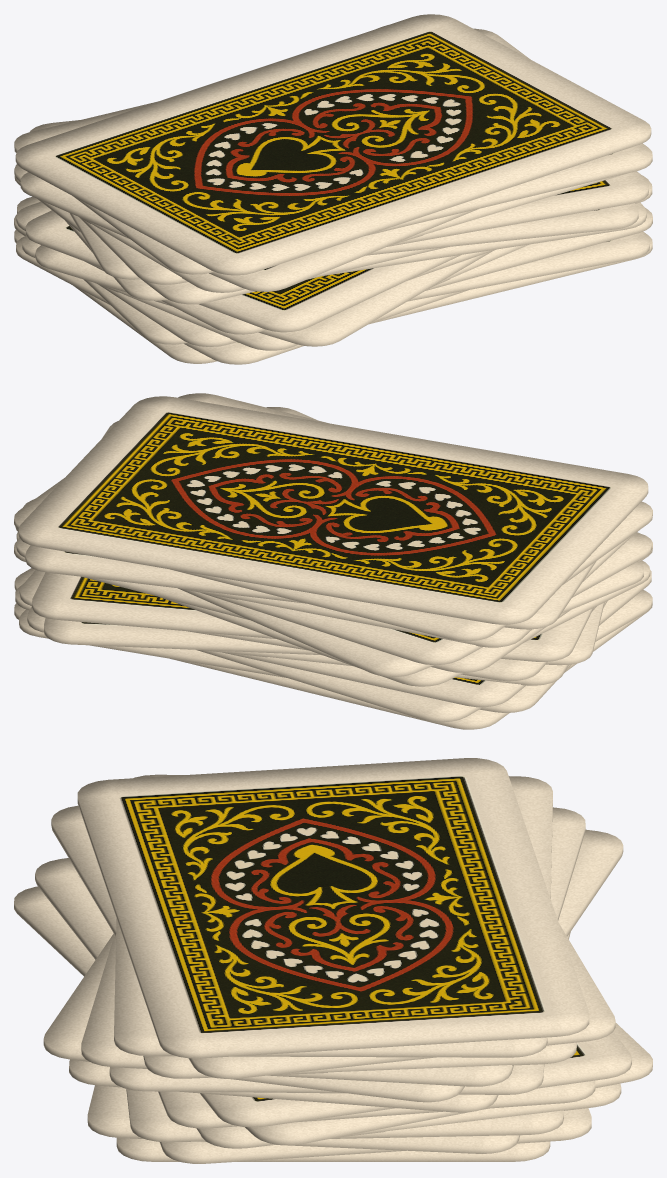
File: pile.fbx
3 views of the same model, one above another, from view 1: azimuth 30°, elevation 25°; view 2: azimuth 150°, elevation 25°; view 3: azimuth 270°, elevation 25° (orthographic). The views are drawn at different scales.
Parts seen in each view (by area): view 1: Face.015; view 2: Face.015; view 3: Face.015.
Boxes of the visible parts, left/top/right/bottom form: Face.015: left=14, top=14, right=652, bottom=364; Face.015: left=14, top=393, right=652, bottom=729; Face.015: left=14, top=758, right=652, bottom=1163.
Size of the model in its own units: 207 by 36.46 by 177.
Materials: 32 (32 with a texture image).
